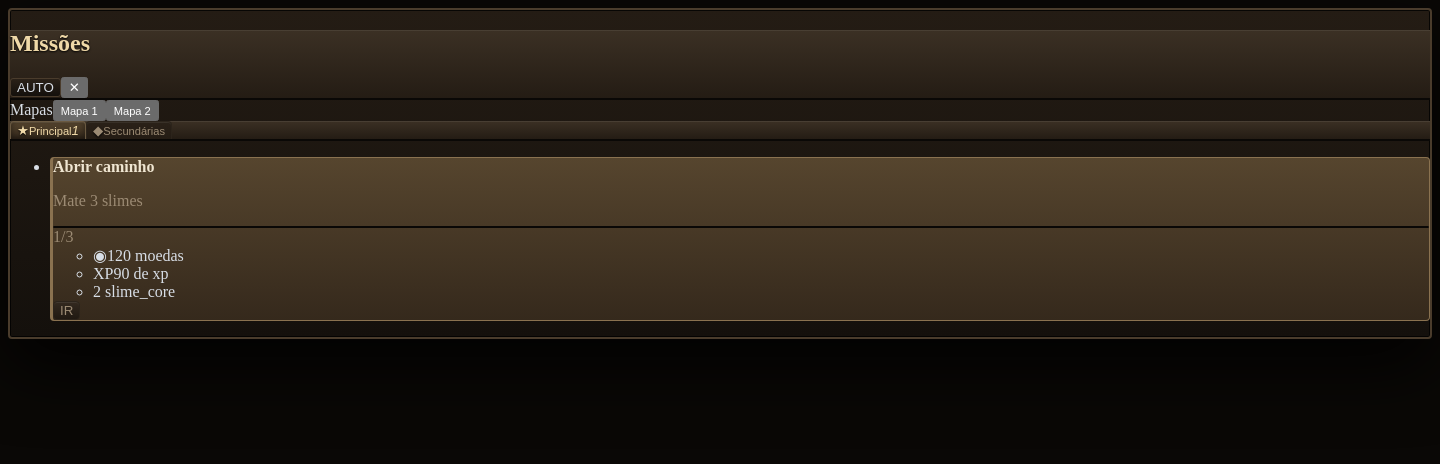
it: a recompensa da missao › leva o [RECEBER] da secundaria para a aba das secundarias
The image size is (1440, 464).
Click the tab "◆Secundárias": {"x": 129, "y": 130} [86,121,172,139]
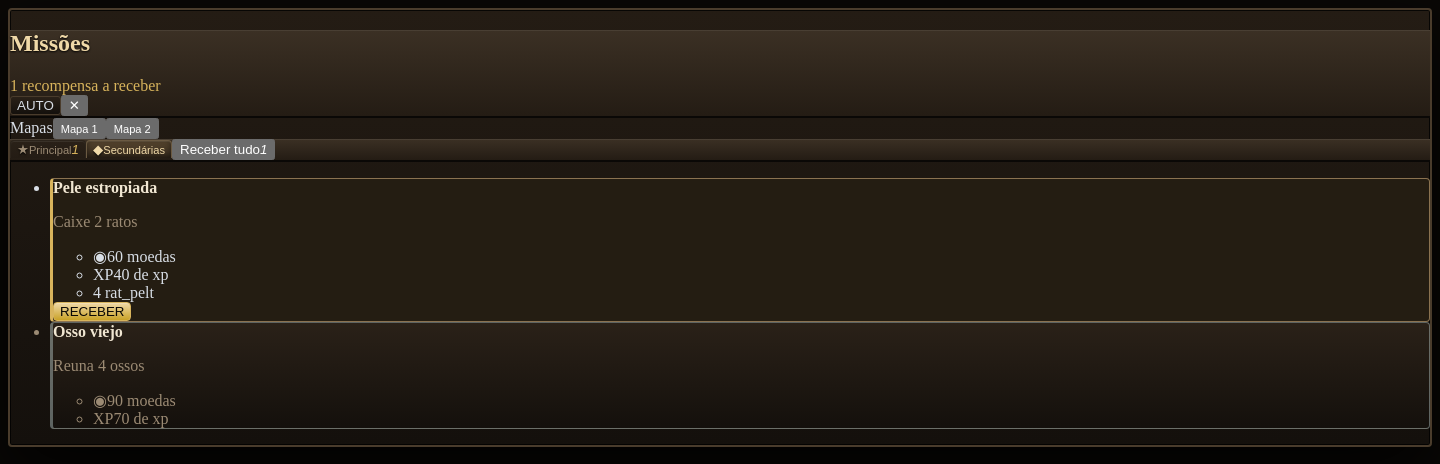
Expected: the text "Abrir caminho" is gone
